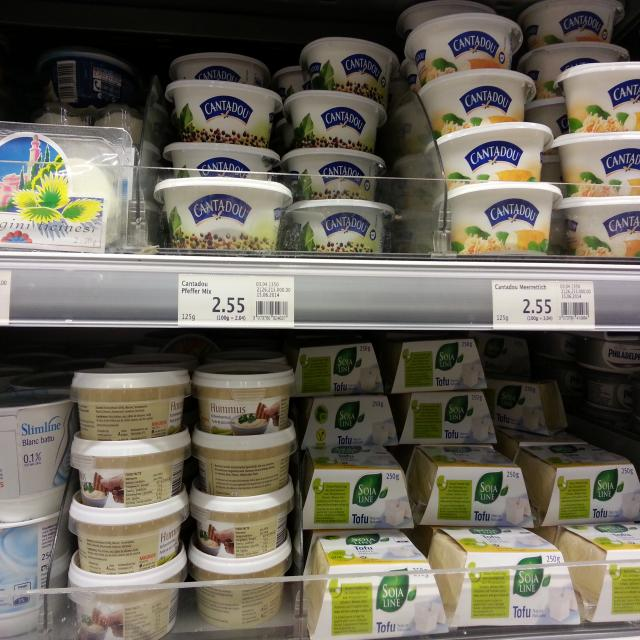Cheese: (0, 120, 131, 253), (154, 176, 293, 253), (428, 182, 562, 256), (423, 120, 553, 194), (405, 12, 525, 89), (417, 67, 538, 139), (164, 79, 283, 146), (300, 35, 400, 109), (283, 89, 388, 153), (551, 59, 640, 131), (547, 130, 640, 195), (288, 199, 396, 254), (280, 148, 386, 201), (555, 195, 640, 258), (162, 144, 281, 182)
